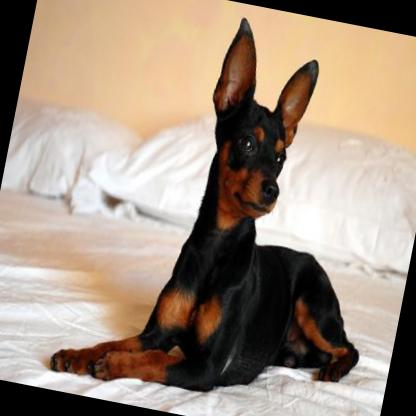miniature_pinscher: (46, 0, 416, 416)
